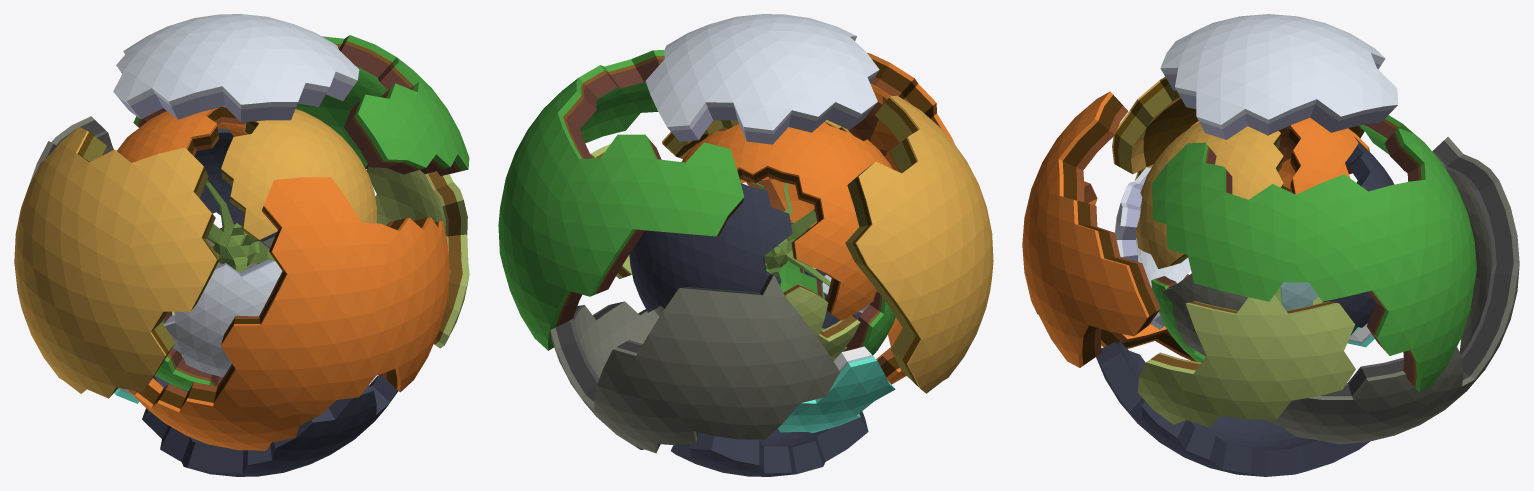
The model's file is test1EARTH.fbx.
3 renders of one model, left to right at view 1: azimuth 30°, elevation 25°; view 2: azimuth 150°, elevation 25°; view 3: azimuth 270°, elevation 25°, orthographic.
Visible parts, largest first — view 1: 3valley, 1Desert, north, 2forest, 1summer.001, south, 4land, north.001, 3auttom.001, 棱角球, south.001, 2spring.001 (+1 smaller); view 2: 2forest, 4ruin, 1Desert, north, 3auttom.001, south.001, south, 3valley, 5land, 2spring.001, 棱角球.002, 棱角球 (+1 smaller); view 3: 2forest, north, 3valley, 4land, 4ruin, south, 1summer.001, 1Desert, 3auttom.001, north.001, 4ruin.001, south.001 (+2 smaller).
Boxes of the visible parts, x1,y1,x2,y2 form: 3valley: [128, 177, 449, 450]; 1Desert: [14, 127, 220, 398]; north: [113, 14, 359, 122]; 2forest: [133, 35, 469, 176]; 1summer.001: [221, 109, 376, 240]; south: [142, 374, 398, 476]; 4land: [366, 166, 469, 348]; north.001: [163, 259, 282, 377]; 3auttom.001: [117, 106, 248, 162]; 棱角球: [205, 180, 275, 272]; south.001: [194, 128, 276, 241]; 2spring.001: [155, 311, 222, 390]; 2forest: [498, 50, 744, 350]; 4ruin: [550, 274, 839, 453]; 1Desert: [845, 95, 993, 393]; north: [645, 14, 879, 144]; 3auttom.001: [682, 122, 892, 320]; south.001: [629, 183, 792, 312]; south: [671, 269, 868, 476]; 3valley: [740, 52, 954, 384]; 5land: [778, 346, 895, 433]; 2spring.001: [766, 222, 895, 361]; 棱角球.002: [783, 284, 860, 360]; 棱角球: [753, 182, 830, 286]; 2forest: [1151, 115, 1476, 392]; north: [1160, 14, 1398, 139]; 3valley: [1022, 91, 1196, 367]; 4land: [1137, 295, 1355, 427]; 4ruin: [1263, 137, 1519, 444]; south: [1096, 341, 1369, 476]; 1summer.001: [1136, 122, 1283, 269]; 1Desert: [1112, 77, 1364, 191]; 3auttom.001: [1190, 118, 1369, 194]; north.001: [1114, 167, 1190, 329]; 4ruin.001: [1162, 273, 1357, 355]; south.001: [1322, 143, 1394, 327].
Size of the model in its own units: 711 by 692 by 734.
